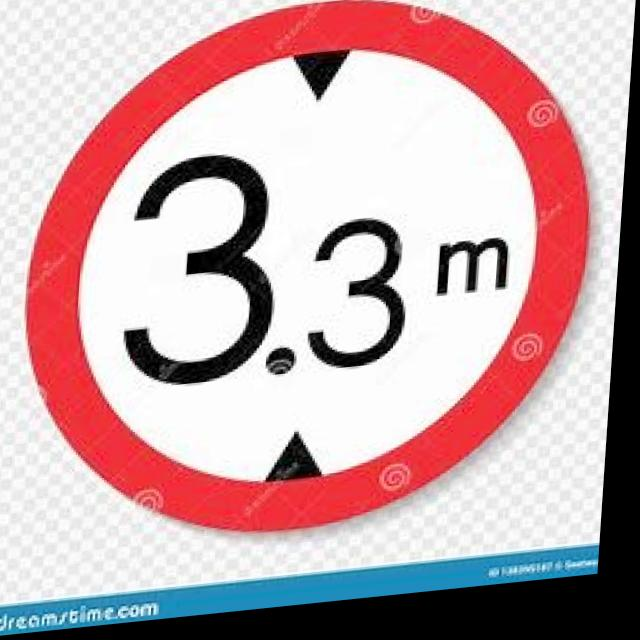HEIGHT_LIMIT: (16, 0, 606, 566)
